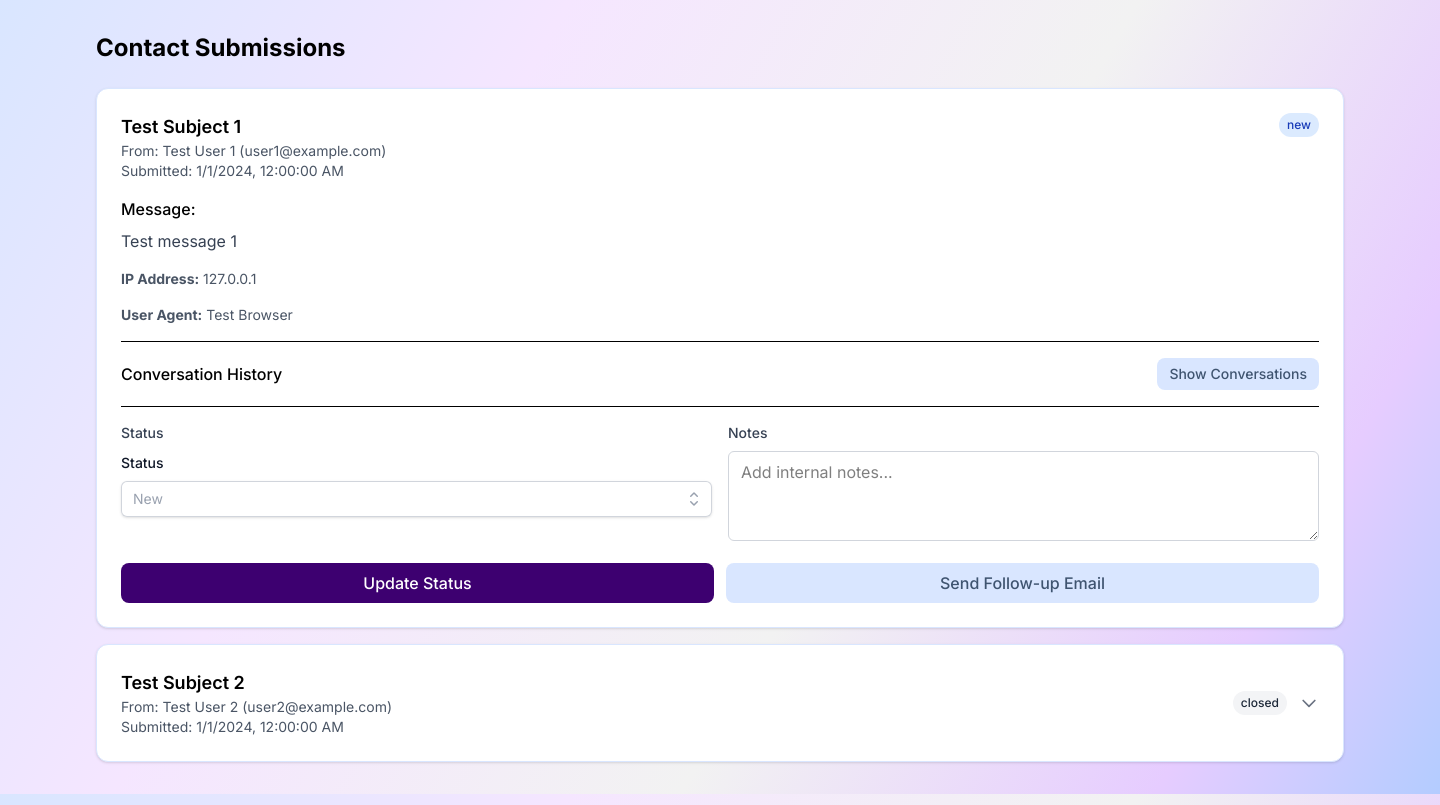
Test case: ContactSubmissionsClient › should show conversation history
# Find and click the conversations button for the first submission
Click the button "Show Conversations": [1238, 374] box [1157,358,1319,390]
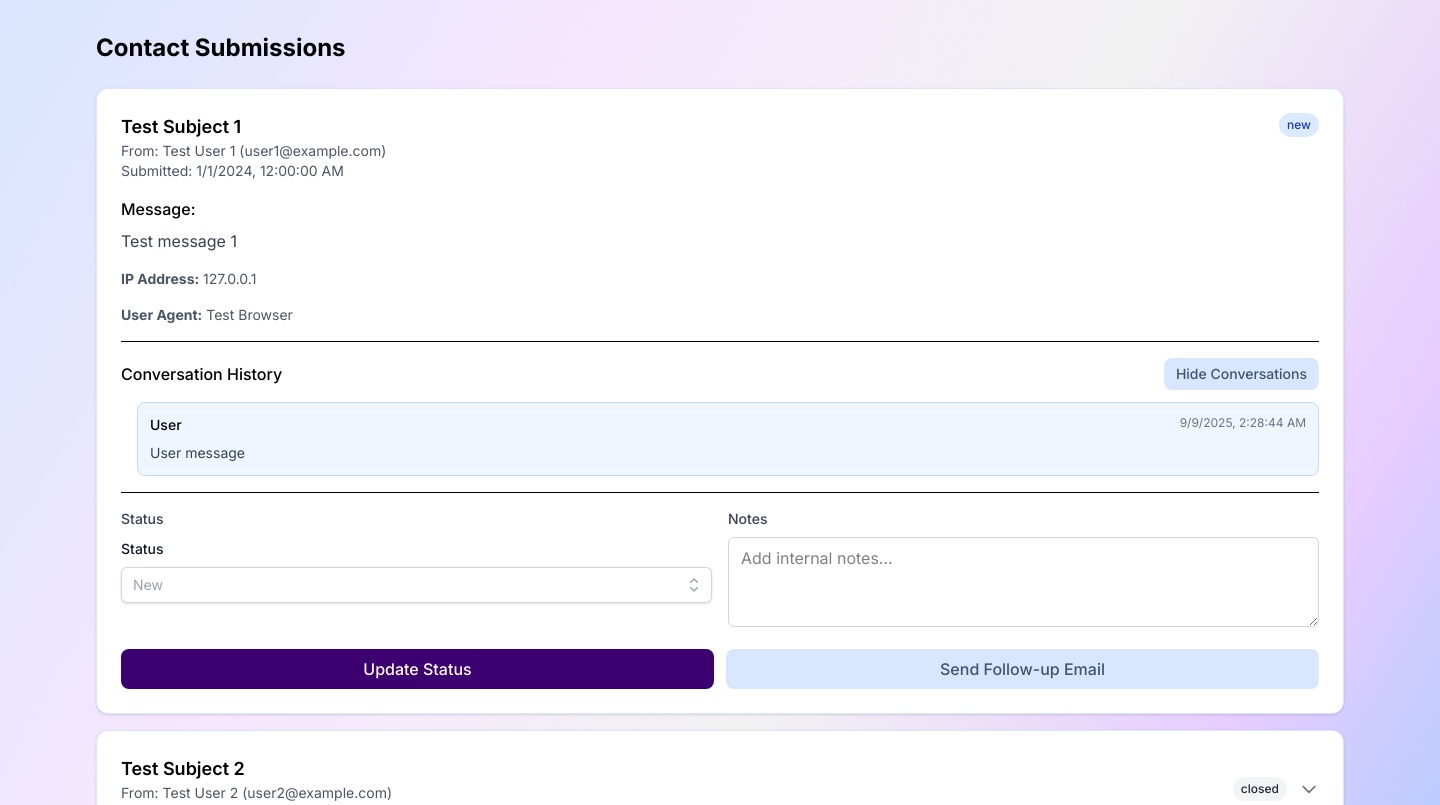
Check: the text "User message" is shown, box [150,444,245,461]
